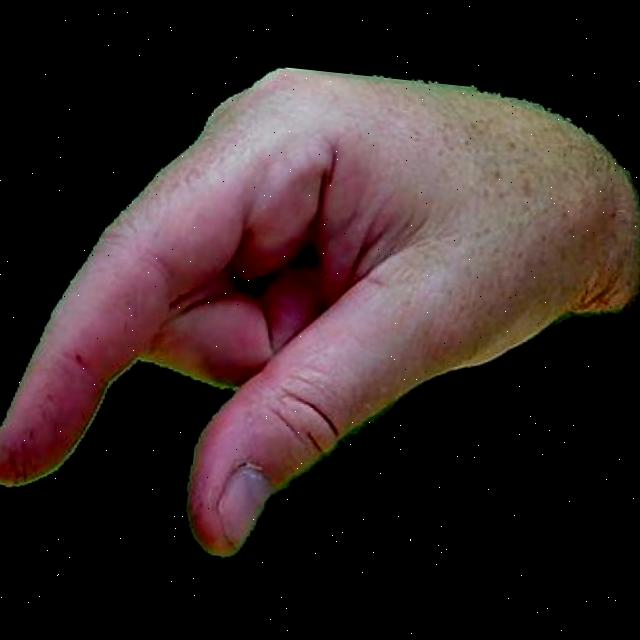q: (0, 16, 640, 619)
